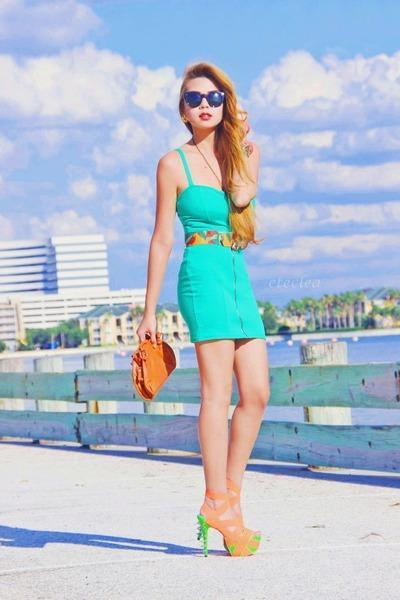bag: (132, 332, 175, 395)
dress: (176, 148, 265, 342)
shoe: (197, 516, 259, 556)
sunglass: (179, 84, 231, 116)
